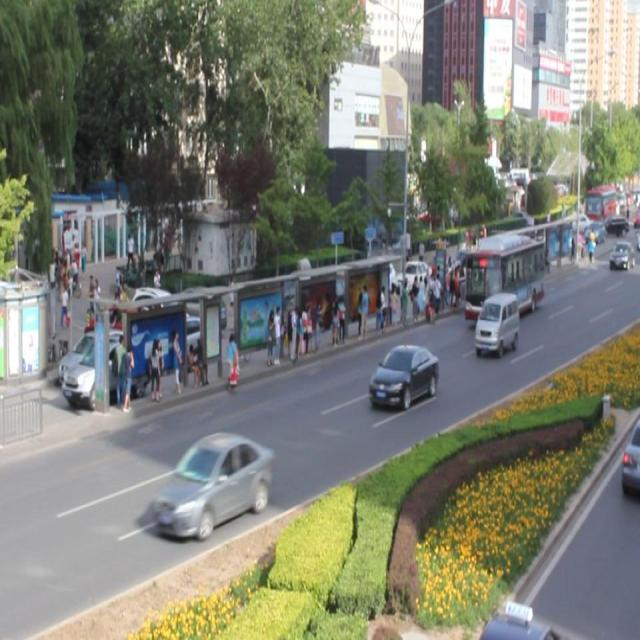car: (154, 430, 274, 538), (368, 344, 440, 408)
truck: (472, 292, 519, 352)
van: (464, 234, 543, 318)
